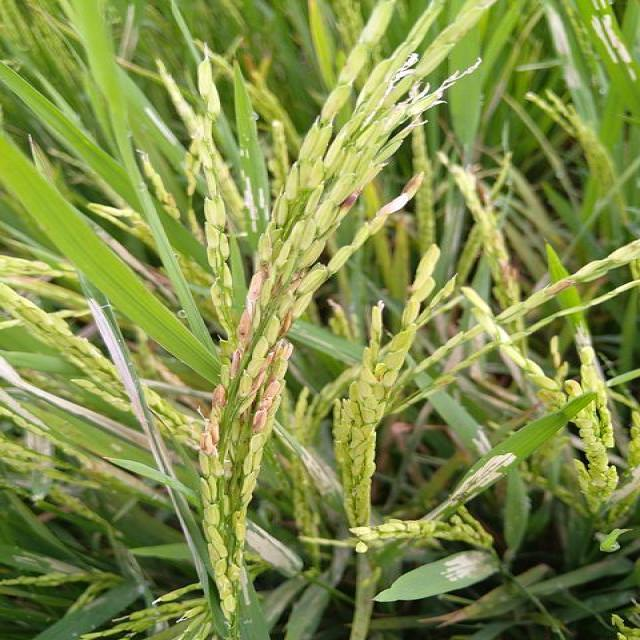Panicle Blight: (227, 299, 257, 386), (200, 385, 228, 468), (243, 347, 284, 398), (341, 166, 381, 218), (377, 172, 423, 216), (252, 382, 280, 434), (248, 262, 269, 310), (277, 300, 295, 339), (235, 407, 247, 428), (272, 274, 284, 294), (288, 274, 301, 292)
